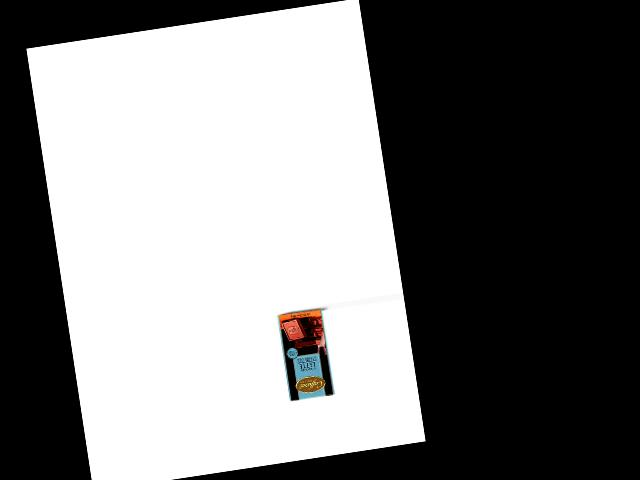chocolate: (276, 307, 336, 402)
